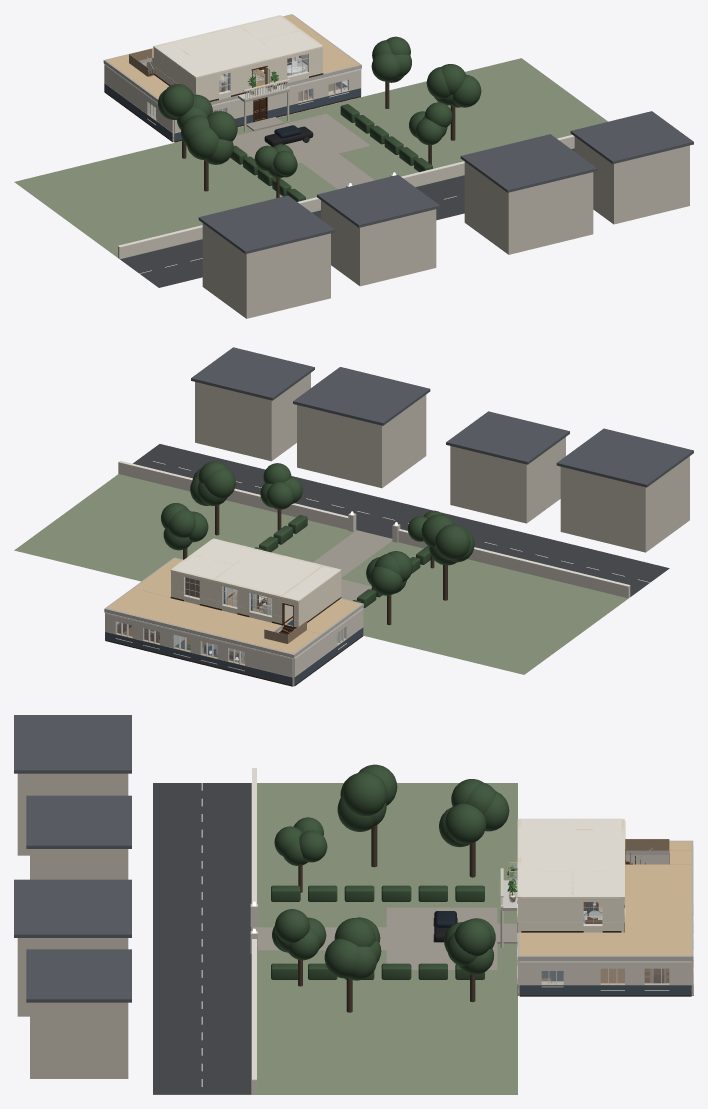
Rendered from hades-house.glb.
3 renders of one model, top to bottom at view 1: azimuth 30°, elevation 25°; view 2: azimuth 150°, elevation 25°; view 3: azimuth 270°, elevation 25°, orthographic. The views are drawn at different scales.
Parts seen in each view (by area): view 1: Z07_lawn, box.403, box.407, box.405, box.409, plane, box.408, box.404, Z07_street, box.406, box.410, Z07_forecourt (+20 smaller); view 2: Z07_lawn, Z07_street, box.403, box.407, box.405, box.409, box.404, box.408, plane, TBD_2F_north.001, box.406, box.410 (+19 smaller); view 3: Z07_lawn, Z07_street, box.409, plane, box.404, box.408, TBD_2F_north.001, box.406, box.410, F2_slab_E, Z07_forecourt, box.403 (+24 smaller).
Part boxes in pixels (x1,y1,x2,y2): Z07_lawn: (14, 58, 607, 259); box.403: (202, 223, 330, 318); box.407: (464, 162, 593, 254); box.405: (321, 200, 436, 286); box.409: (574, 137, 689, 224); plane: (170, 15, 322, 72); box.408: (460, 134, 597, 192); box.404: (198, 195, 334, 253); Z07_street: (120, 148, 574, 287); box.406: (317, 175, 440, 227); box.410: (570, 111, 693, 163); Z07_forecourt: (232, 113, 370, 163); Z07_lawn: (14, 474, 628, 674); Z07_street: (133, 444, 669, 596); box.403: (560, 456, 689, 552); box.407: (297, 395, 426, 488); box.405: (450, 437, 565, 523); box.409: (195, 373, 310, 461); box.404: (556, 428, 693, 487); box.408: (293, 367, 430, 425); plane: (173, 538, 320, 594); TBD_2F_north.001: (106, 588, 281, 644); box.406: (446, 411, 569, 464); box.410: (191, 347, 314, 400); Z07_lawn: (153, 783, 517, 1094); Z07_street: (153, 783, 251, 1094); box.409: (30, 1002, 128, 1078); plane: (518, 829, 624, 896); box.404: (14, 715, 131, 773); box.408: (14, 879, 131, 937); TBD_2F_north.001: (623, 864, 691, 955); box.406: (26, 795, 131, 848); box.410: (26, 949, 131, 1002); F2_slab_E: (621, 865, 668, 960); Z07_forecourt: (386, 907, 497, 969); box.403: (17, 773, 128, 855).
Bounding box in the file's own units: 60 × 8.84 × 55.3.
103 materials, 5 textured.
